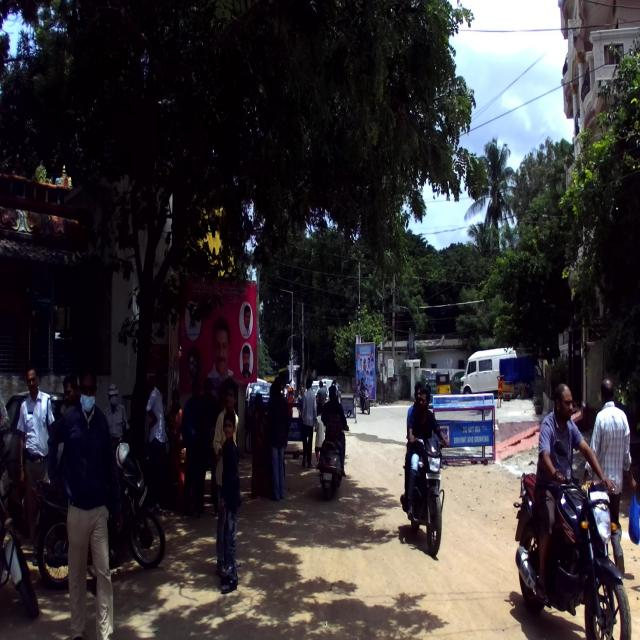Car_Maruti-Suzuki: (4, 393, 70, 533)
motorcycle_Hero: (31, 424, 166, 589)
motorcycle_Honda: (400, 430, 450, 558)
motorcycle_Yamaha: (509, 439, 632, 639)
scooter: (315, 409, 351, 501)
